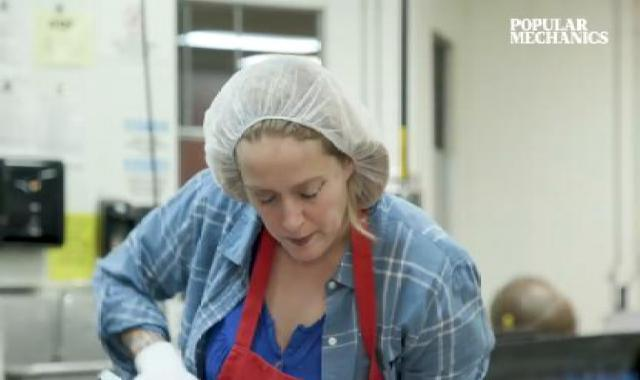hairnet: (202, 57, 400, 210)
